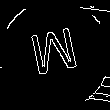M_S: (27, 26, 83, 84)
